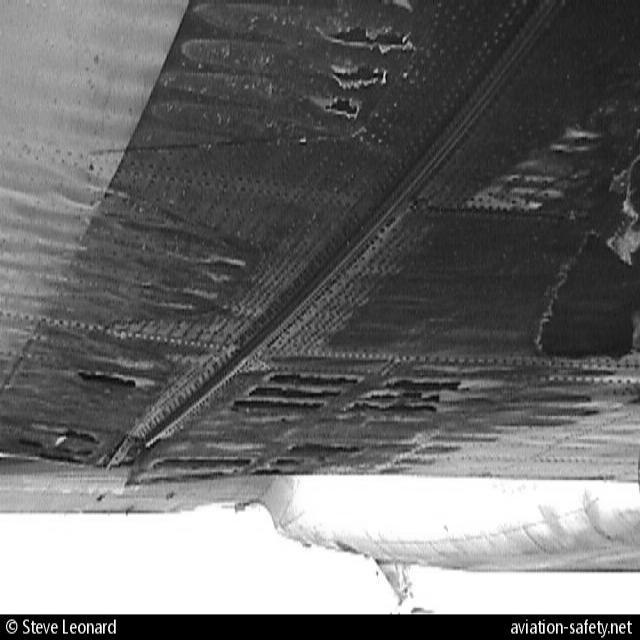crack: (304, 21, 415, 129)
